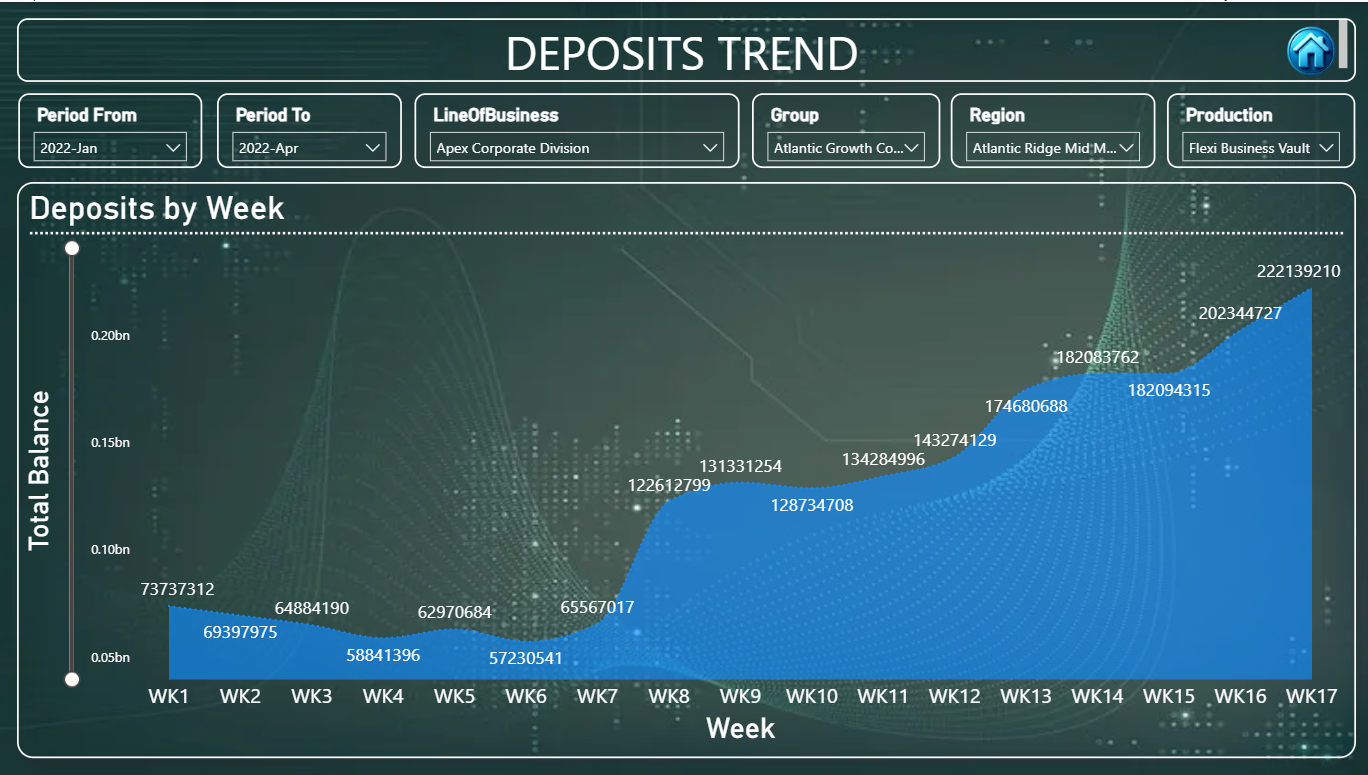

The page's visual inventory and layout, read from the dashboard file:
{"tool":"powerbi","page":{"name":"Deposits Trend","canvas":[1280,720],"ordinal":1},"visuals":[{"type":"slicer","title":"period from","fields":{"Values":["Period From.YearMonth"]},"box":[19.2,85.1,171.5,70],"z":0},{"type":"slicer","fields":{"Values":["Period To.YearMonth"]},"box":[204.7,84.9,172.1,69.8],"z":1000},{"type":"textbox","box":[18.6,15.1,1245.4,59.3],"z":2000},{"type":"areaChart","title":"Deposits by Week","fields":{"Category":["Week Axis.Week Label"],"Y":["AccountDepositsData.Deposits by Week"]},"box":[18.6,167.4,1245.4,536],"z":3000},{"type":"slicer","fields":{"Values":["AccountDepositsData.LineOfBusiness"]},"box":[388.4,84.9,302.3,69.8],"z":4000},{"type":"slicer","fields":{"Values":["AccountDepositsData.Group"]},"box":[702.3,84.9,175.6,69.8],"z":5000},{"type":"slicer","fields":{"Values":["AccountDepositsData.Region"]},"box":[887.2,84.9,190.7,69.8],"z":6000},{"type":"slicer","fields":{"Values":["AccountDepositsData.Prod"]},"box":[1088.4,84.9,175.6,69.8],"z":7000},{"type":"image","box":[1194.2,15.1,57,64],"z":7001}]}

Visuals, with their boxes in screenshot pixels (x1, y1, x2, y2), scaled from the page's 1280x720 canvas onto the 1368x775 screenshot:
"period from" slicer: (21,92,204,167)
slicer - Period To.YearMonth: (219,91,403,167)
textbox: (20,16,1351,80)
"Deposits by Week" areaChart: (20,180,1351,757)
slicer - AccountDepositsData.LineOfBusiness: (415,91,738,167)
slicer - AccountDepositsData.Group: (751,91,938,167)
slicer - AccountDepositsData.Region: (948,91,1152,167)
slicer - AccountDepositsData.Prod: (1163,91,1351,167)
image: (1276,16,1337,85)
